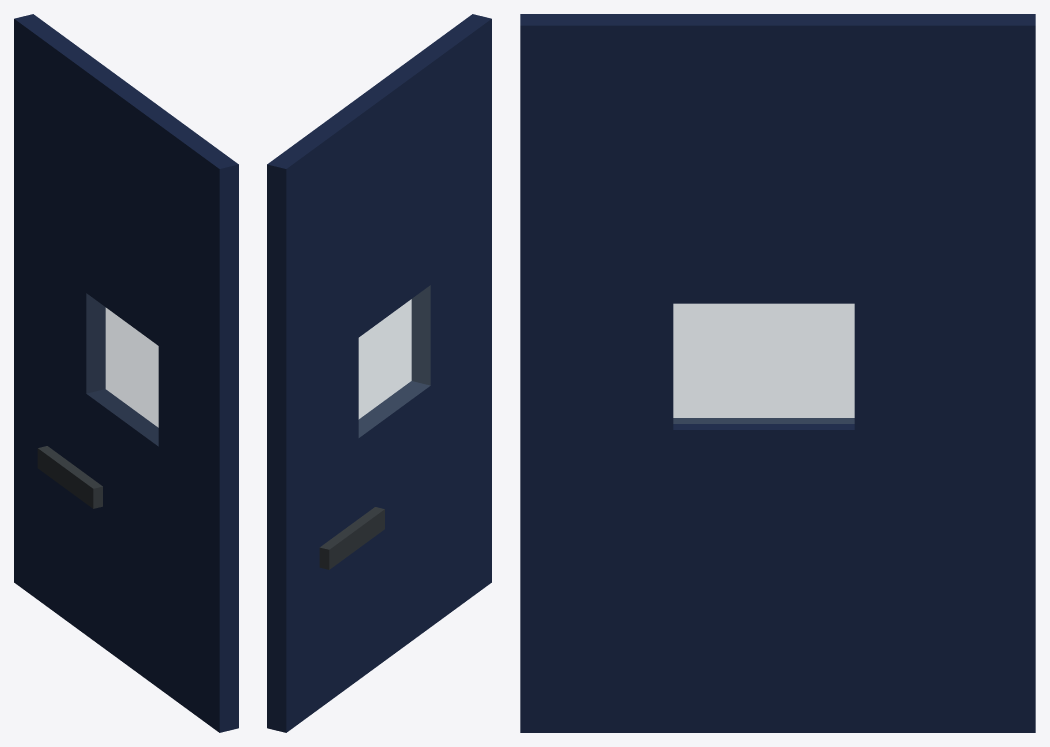
File: swat_truck_rear_door.glb
3 views of the same model, side by side, from view 1: azimuth 30°, elevation 25°; view 2: azimuth 150°, elevation 25°; view 3: azimuth 270°, elevation 25° (orthographic). The views are drawn at different scales.
Visible parts, largest first — view 1: body:compound; view 2: body:compound; view 3: body:compound.
Part boxes in pixels (x1,y1,x2,y2): body:compound: (14, 14, 238, 732); body:compound: (267, 14, 491, 732); body:compound: (520, 14, 1035, 732).
Bounding box in the file's own units: 0.0938 × 1.75 × 1.16.
